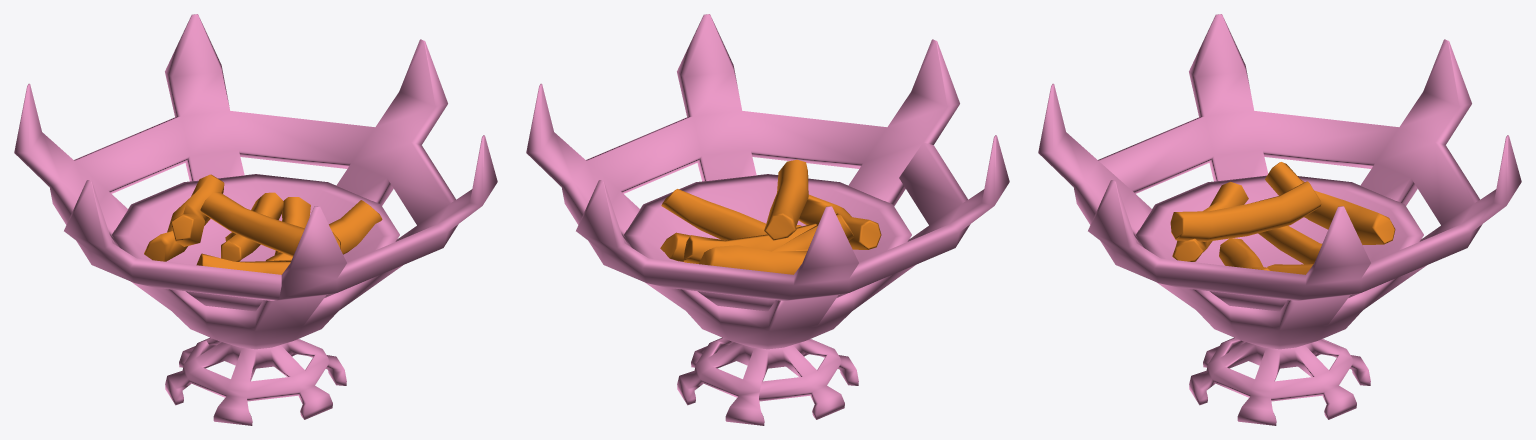
Rendered from Brazier.fbx.
3 views of the same model, side by side, from view 1: azimuth 30°, elevation 25°; view 2: azimuth 150°, elevation 25°; view 3: azimuth 270°, elevation 25° (orthographic).
Parts seen in each view (by area): view 1: Brazier; view 2: Brazier; view 3: Brazier.
Part boxes in pixels (bbox=[...]): Brazier: bbox=[14, 14, 497, 425]; Brazier: bbox=[526, 14, 1009, 425]; Brazier: bbox=[1038, 14, 1521, 425].
Size of the model in its own units: 1.47 by 1.47 by 0.9257.
